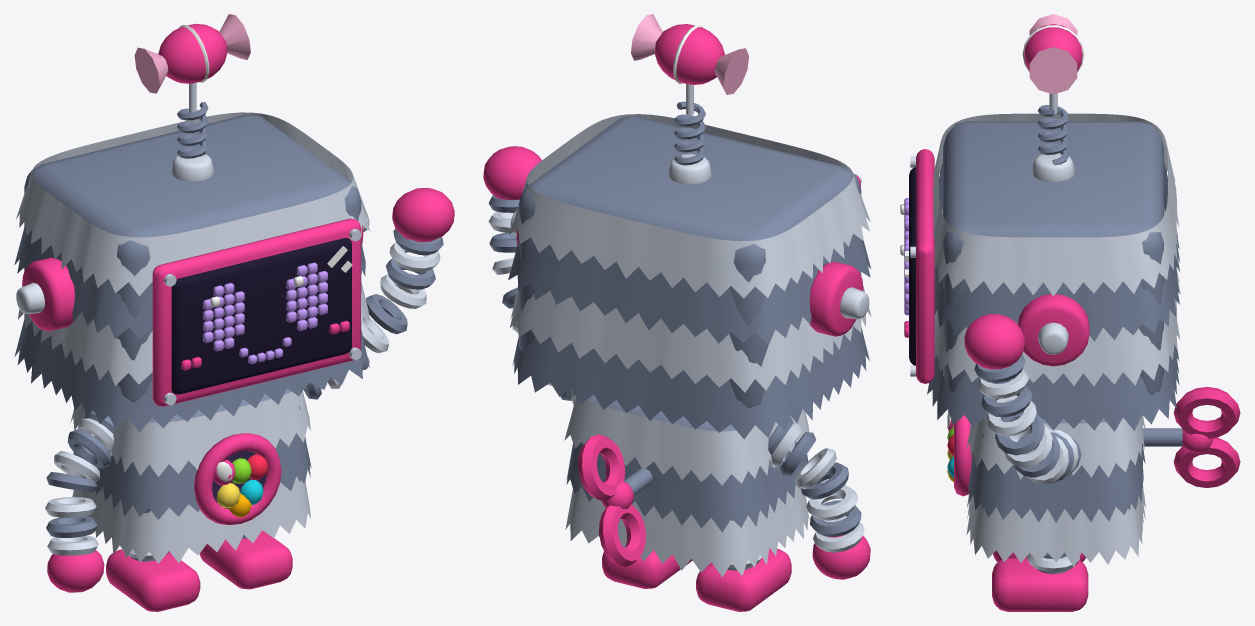
Rendered from robo.obj.
3 views of the same model, side by side, from view 1: azimuth 30°, elevation 25°; view 2: azimuth 150°, elevation 25°; view 3: azimuth 270°, elevation 25° (orthographic).
Visible parts, largest first — view 1: robo, robo_Neon; view 2: robo; view 3: robo, robo_Neon.
Boxes of the visible parts, box(x1,y1,x2,y2) form: robo: box(14, 14, 454, 611); robo_Neon: box(203, 262, 327, 364); robo: box(483, 14, 871, 611); robo: box(900, 14, 1240, 611); robo_Neon: box(904, 198, 908, 315).
Bounding box in the file's own units: 3.46 × 4.57 × 2.54.
2 materials, 2 textured.
